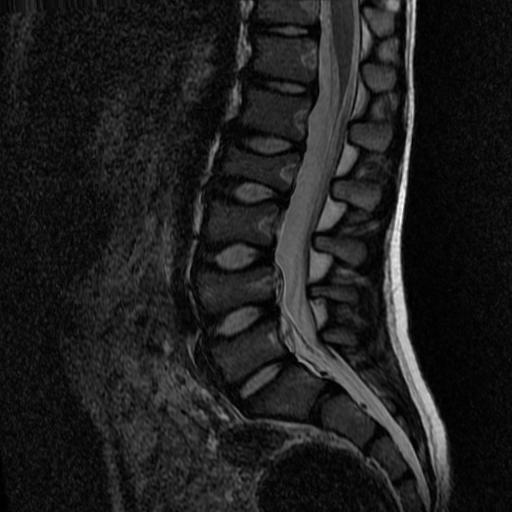D1: (224, 119, 306, 157)
